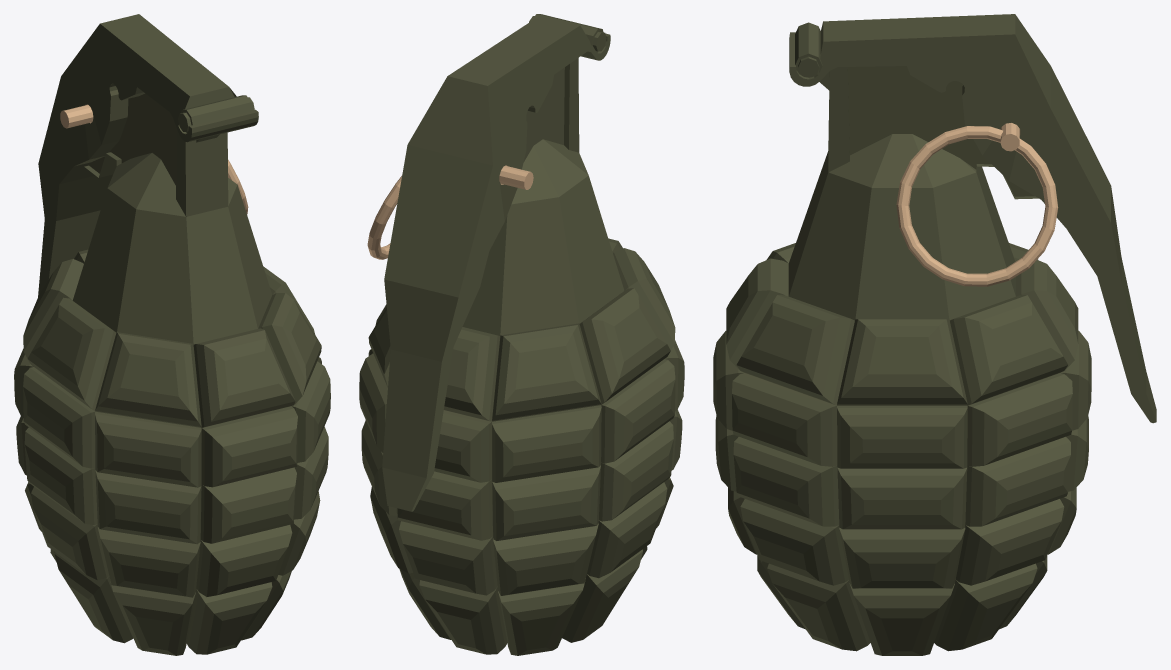
Rendered from granada.fbx.
The picture shows the model from 3 angles, left to right: view 1: azimuth 30°, elevation 25°; view 2: azimuth 150°, elevation 25°; view 3: azimuth 270°, elevation 25°; orthographic projection. The views are drawn at different scales.
Parts seen in each view (by area): view 1: Cilindro, Cilindro.001; view 2: Cilindro, Cilindro.001; view 3: Cilindro, Cilindro.001.
Part boxes in pixels (bbox=[...]): Cilindro: bbox=[14, 14, 330, 655]; Cilindro.001: bbox=[60, 104, 248, 214]; Cilindro: bbox=[359, 14, 684, 655]; Cilindro.001: bbox=[367, 165, 533, 259]; Cilindro: bbox=[713, 14, 1156, 655]; Cilindro.001: bbox=[896, 123, 1058, 286].
Size of the model in its own units: 152 by 321 by 216.
